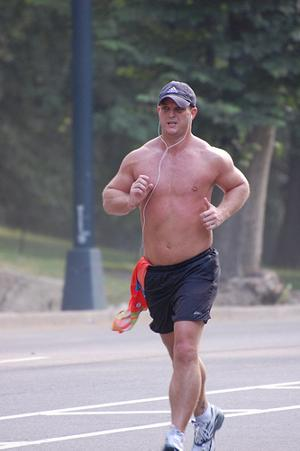person: (103, 78, 251, 451)
